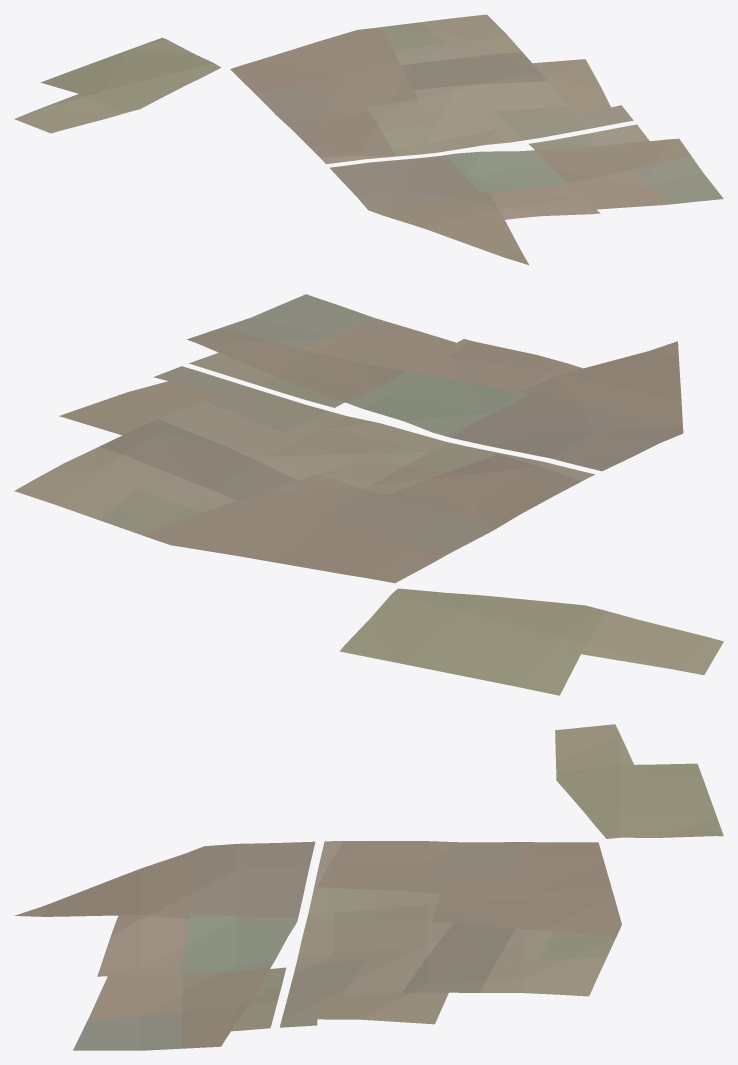
The model's file is farm_-3_1_soil.glb.
3 views of the same model, one above another, from view 1: azimuth 30°, elevation 25°; view 2: azimuth 150°, elevation 25°; view 3: azimuth 270°, elevation 25° (orthographic). The views are drawn at different scales.
Parts seen in each view (by area): view 1: geometry_0; view 2: geometry_0; view 3: geometry_0.
Boxes of the visible parts, bbox=[...] form: geometry_0: bbox=[14, 14, 723, 264]; geometry_0: bbox=[14, 294, 723, 695]; geometry_0: bbox=[14, 724, 723, 1050].
Size of the model in its own units: 584 by 43.01 by 593.
